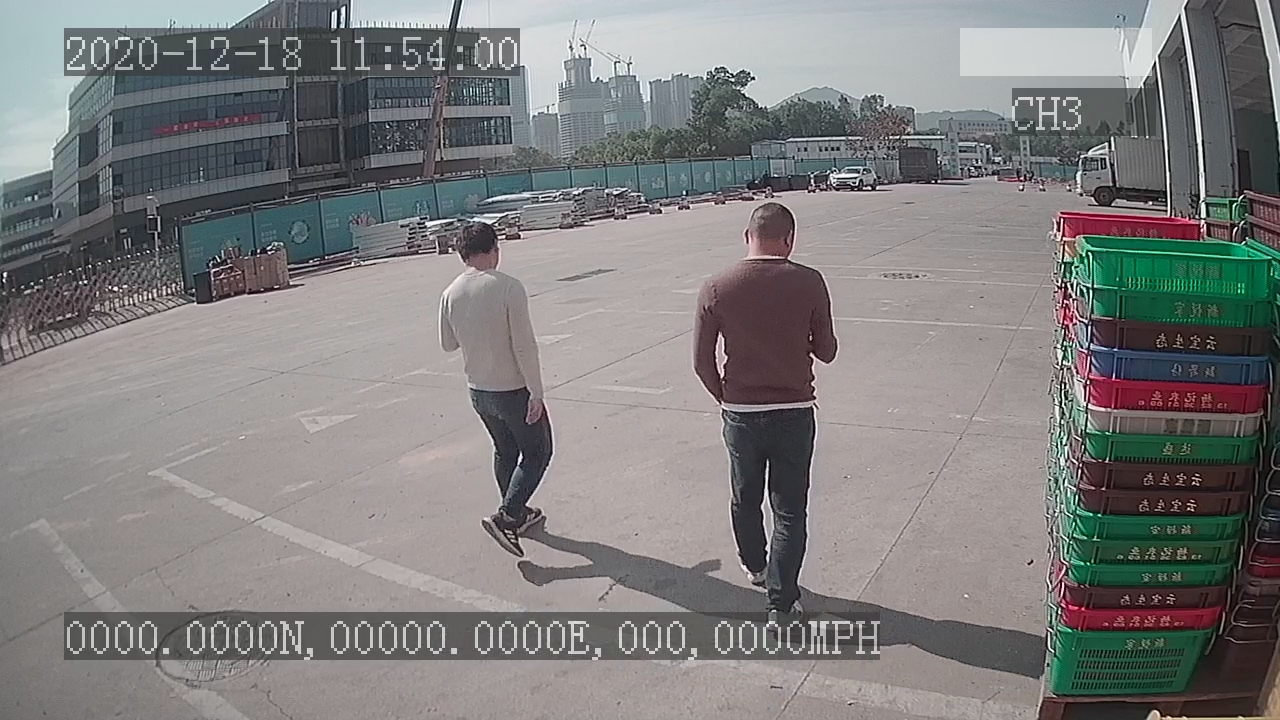person: (422, 219, 568, 569)
